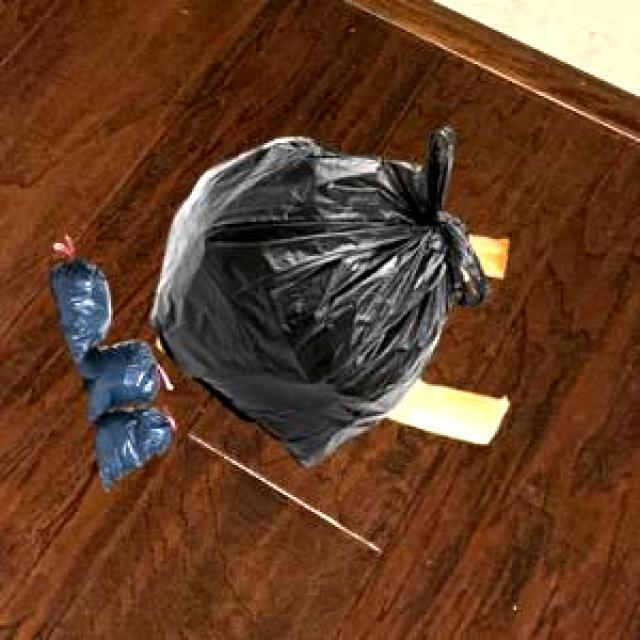Bolsa-de-nilon: (150, 125, 491, 470)
